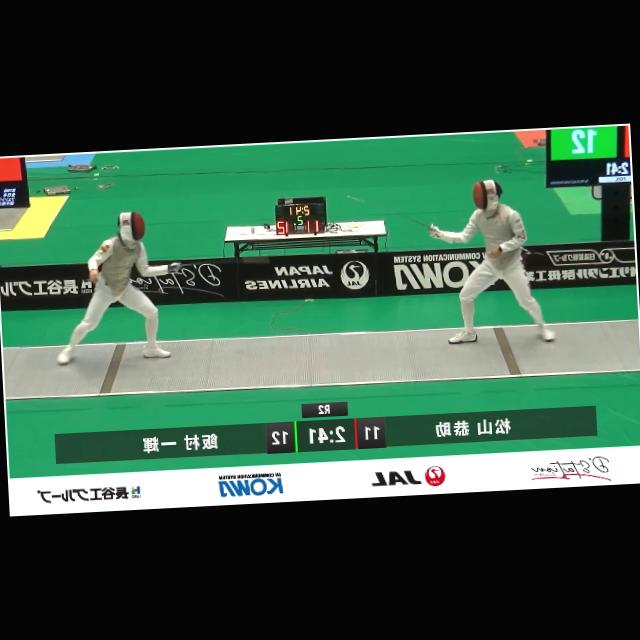blade: (342, 183, 444, 240), (168, 250, 274, 274)
